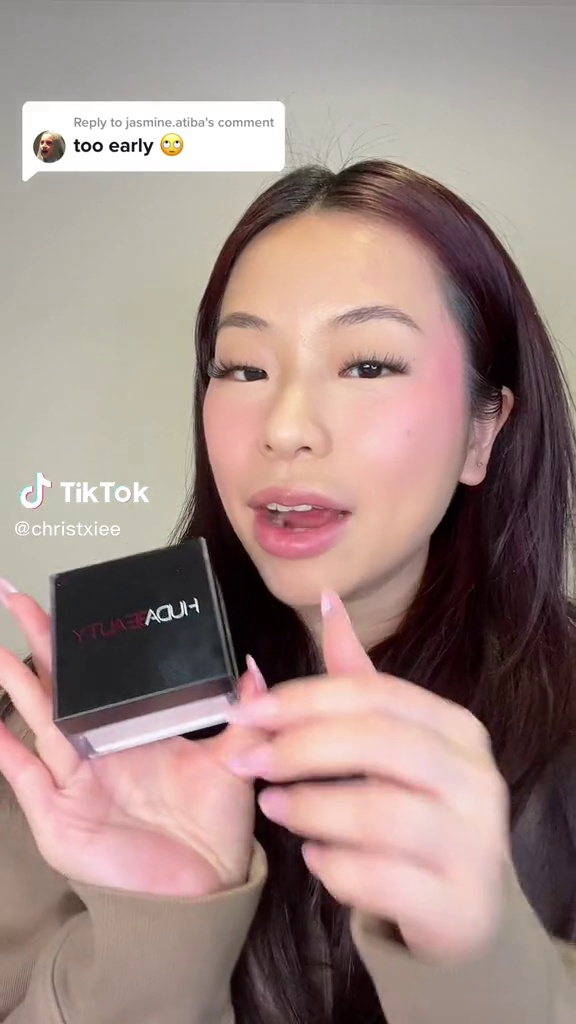train' :'yolo_data/train/images',: (44, 527, 247, 765)
